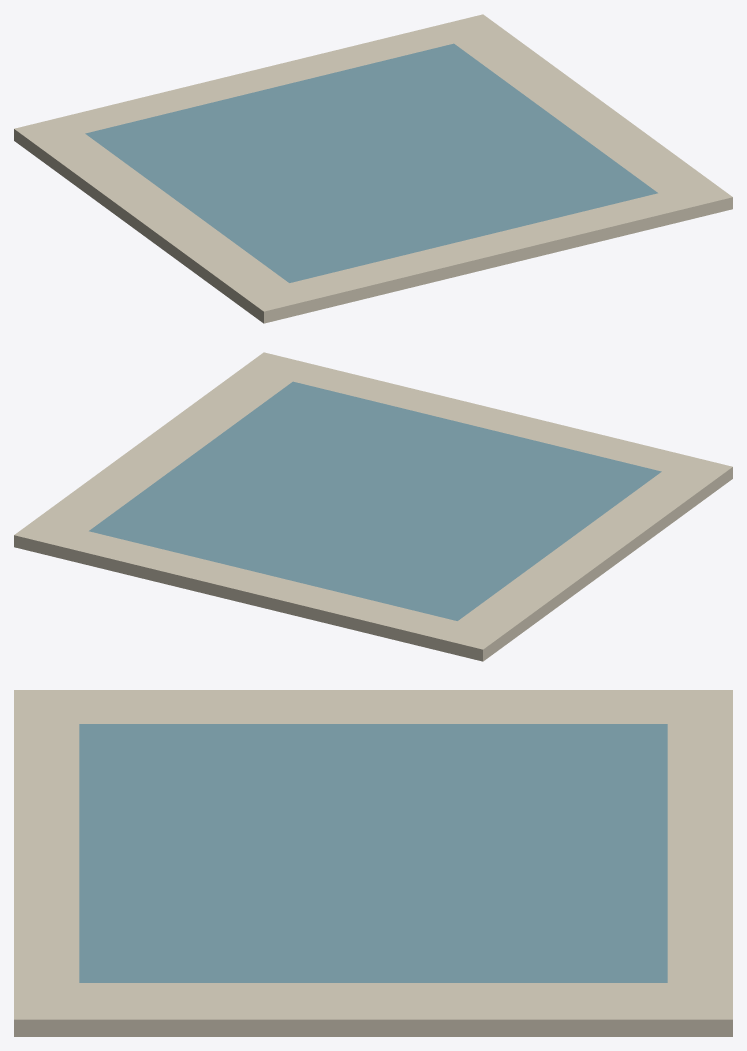
Rendered from FridgeWireV1.fbx.
The picture shows the model from 3 angles, top to bottom: view 1: azimuth 30°, elevation 25°; view 2: azimuth 150°, elevation 25°; view 3: azimuth 270°, elevation 25°; orthographic projection. The views are drawn at different scales.
Parts seen in each view (by area): view 1: FridgeThing; view 2: FridgeThing; view 3: FridgeThing.
Part boxes in pixels (x1,y1,x2,y2): FridgeThing: [14, 14, 732, 323]; FridgeThing: [14, 352, 732, 661]; FridgeThing: [14, 690, 732, 1036].
Bounding box in the file's own units: 421 × 457 × 11.2.
